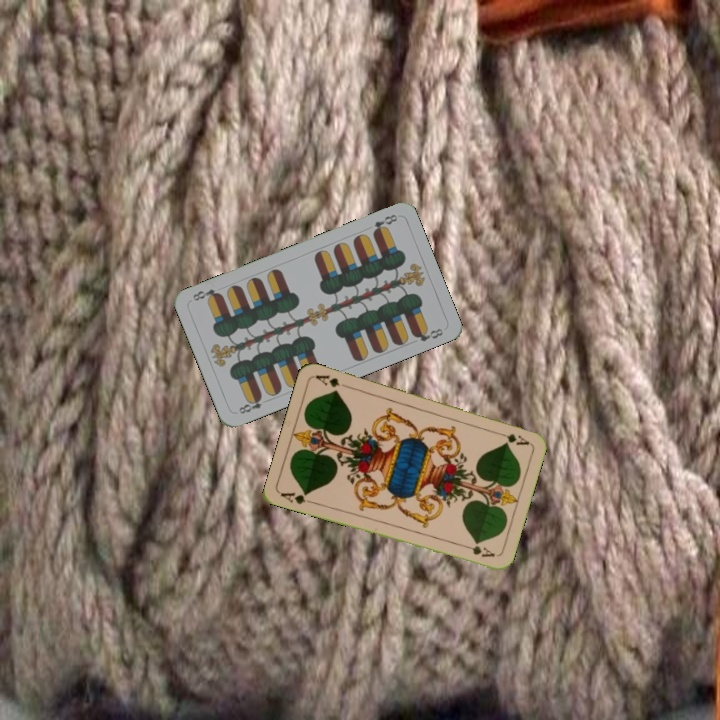E8: (235, 392, 272, 417), (368, 210, 400, 237)
GA: (492, 427, 532, 448), (277, 488, 317, 507)
